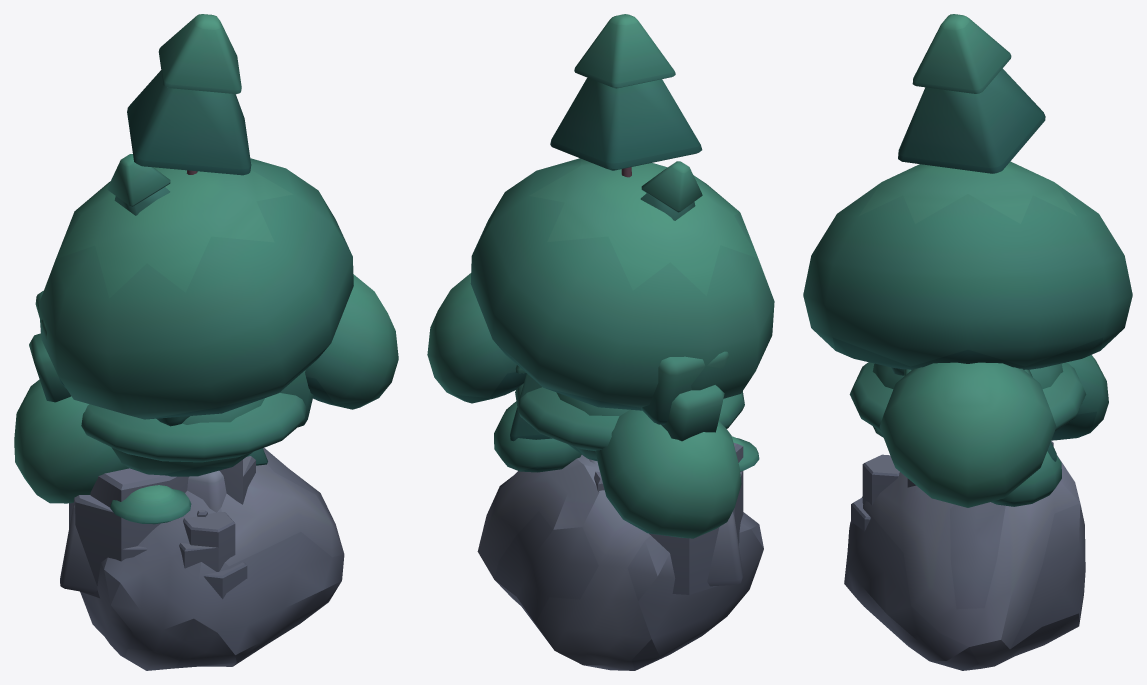
The model's file is kk_forest.glb.
The picture shows the model from 3 angles, left to right: view 1: azimuth 30°, elevation 25°; view 2: azimuth 150°, elevation 25°; view 3: azimuth 270°, elevation 25°; orthographic projection. The views are drawn at different scales.
Parts seen in each view (by area): view 1: Tree_1_C_Color1, Rock_3_R_Color1, Tree_4_C_Color1, Tree_3_B_Color1, Rock_1_J_Color1, Rock_2_F_Color1, Tree_1_B_Color1, Tree_2_C_Color1, Rock_1_O_Color1, Tree_2_B_Color1; view 2: Tree_1_C_Color1, Rock_3_R_Color1, Tree_4_C_Color1, Tree_3_B_Color1, Tree_2_C_Color1, Tree_1_B_Color1, Rock_1_J_Color1, Rock_2_F_Color1; view 3: Tree_1_C_Color1, Rock_3_R_Color1, Tree_4_C_Color1, Tree_3_B_Color1, Tree_1_B_Color1, Rock_1_J_Color1.
Part boxes in pixels (<box>): Tree_1_C_Color1: <box>14,158,398,503</box>; Rock_3_R_Color1: <box>80,448,344,670</box>; Tree_4_C_Color1: <box>107,14,251,215</box>; Tree_3_B_Color1: <box>81,393,306,524</box>; Rock_1_J_Color1: <box>69,468,247,599</box>; Rock_2_F_Color1: <box>60,470,226,593</box>; Tree_1_B_Color1: <box>111,398,264,476</box>; Tree_2_C_Color1: <box>29,291,70,402</box>; Rock_1_O_Color1: <box>219,456,255,504</box>; Tree_2_B_Color1: <box>156,370,313,427</box>; Tree_1_C_Color1: <box>427,158,774,538</box>; Rock_3_R_Color1: <box>477,455,763,670</box>; Tree_4_C_Color1: <box>510,14,702,441</box>; Tree_3_B_Color1: <box>515,383,759,471</box>; Tree_2_C_Color1: <box>641,351,728,441</box>; Tree_1_B_Color1: <box>494,392,629,472</box>; Rock_1_J_Color1: <box>649,442,743,594</box>; Rock_2_F_Color1: <box>589,459,743,586</box>; Tree_1_C_Color1: <box>803,161,1132,507</box>; Rock_3_R_Color1: <box>844,454,1085,670</box>; Tree_4_C_Color1: <box>898,14,1056,461</box>; Tree_3_B_Color1: <box>849,362,1086,437</box>; Tree_1_B_Color1: <box>872,363,1063,506</box>; Rock_1_J_Color1: <box>851,454,899,531</box>.
Size of the model in its own units: 6.69 by 12.13 by 5.75.
1 material, 1 textured.
